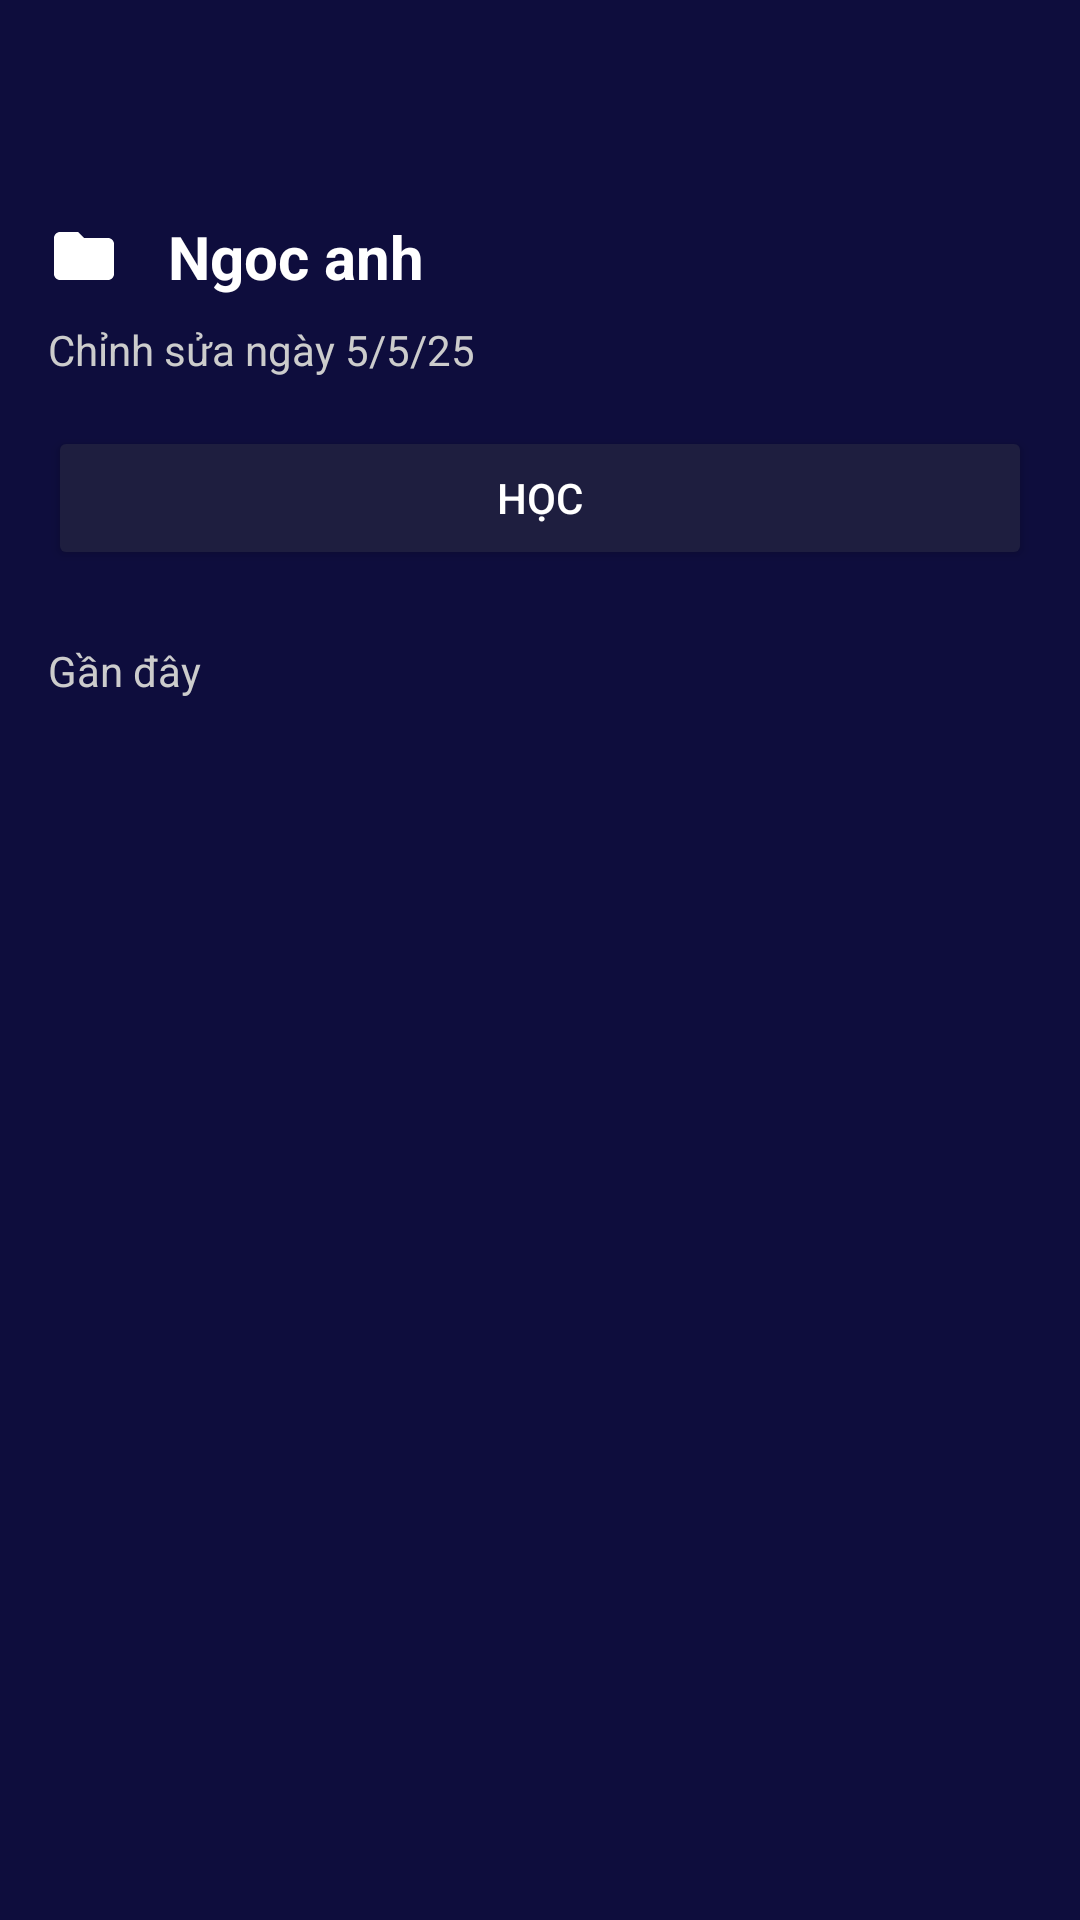

Icon click points for this 1080 × 1920 phone screenshot, format point (x, y):
folder: point (84, 256)
